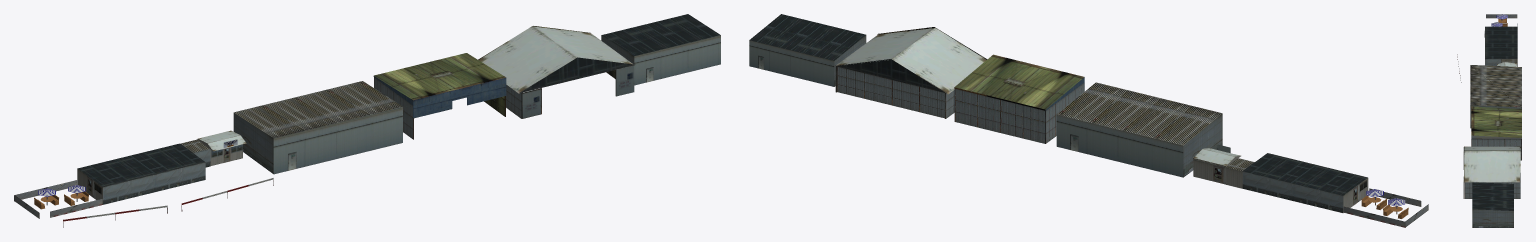
File: Nesher.gltf
The picture shows the model from 3 angles, left to right: view 1: azimuth 30°, elevation 25°; view 2: azimuth 150°, elevation 25°; view 3: azimuth 270°, elevation 25°; orthographic projection. The views are drawn at different scales.
Parts seen in each view (by area): view 1: node4, node2, node3, node1; view 2: node4, node2, node3; view 3: node4, node2, node3.
Part boxes in pixels (x1,y1,x2,y2): node4: (14,14,720,218); node2: (478,26,635,118); node3: (373,53,506,139); node1: (63,178,273,227); node4: (749,14,1428,227); node2: (835,27,987,118); node3: (954,54,1084,143); node4: (1470,14,1521,227); node2: (1463,146,1520,198); node3: (1471,106,1521,160).
Size of the model in its own units: 112 by 8.34 by 14.73.
